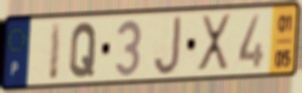3: (114, 17, 144, 79)
4: (237, 12, 266, 71)
I: (47, 20, 64, 83)
J: (152, 14, 183, 78)
Q: (68, 21, 99, 80)
X: (195, 12, 233, 74)
